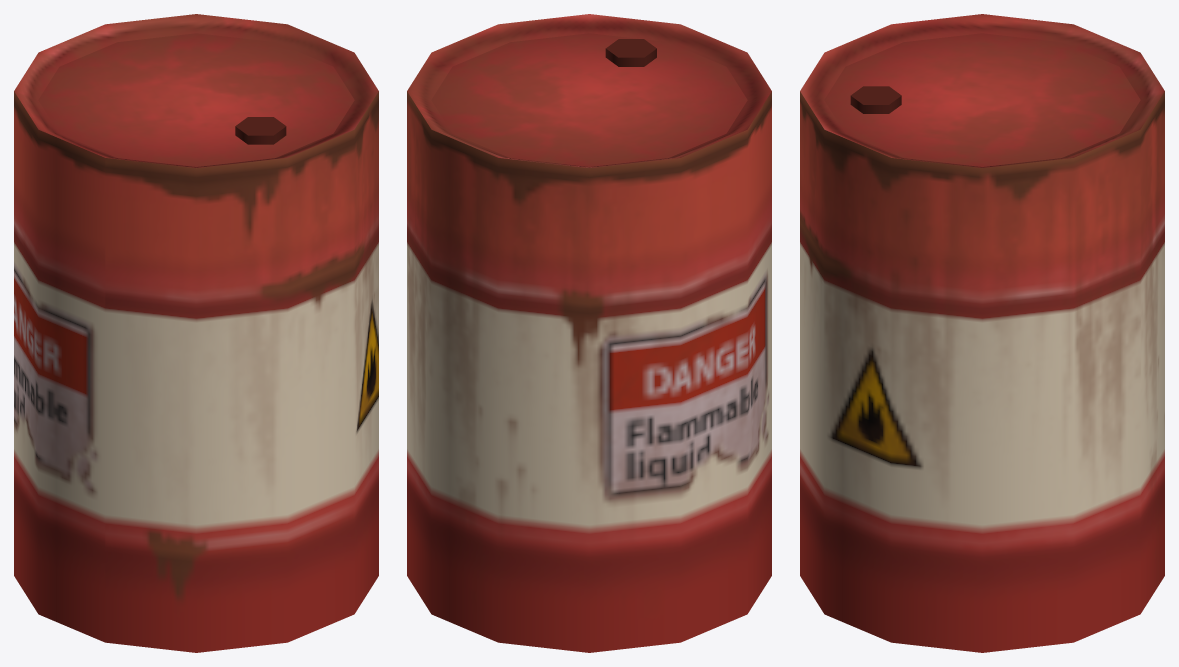
The model's file is TRF0210025.fbx.
3 renders of one model, left to right at view 1: azimuth 30°, elevation 25°; view 2: azimuth 150°, elevation 25°; view 3: azimuth 270°, elevation 25°, orthographic.
Visible parts, largest first — view 1: smTRF0210025; view 2: smTRF0210025; view 3: smTRF0210025.
Part boxes in pixels (bbox=[...]): smTRF0210025: bbox=[14, 14, 378, 652]; smTRF0210025: bbox=[407, 14, 771, 652]; smTRF0210025: bbox=[800, 14, 1164, 652].
Bounding box in the file's own units: 81.95 × 120 × 81.95.
Materials: 1 (1 with a texture image).
